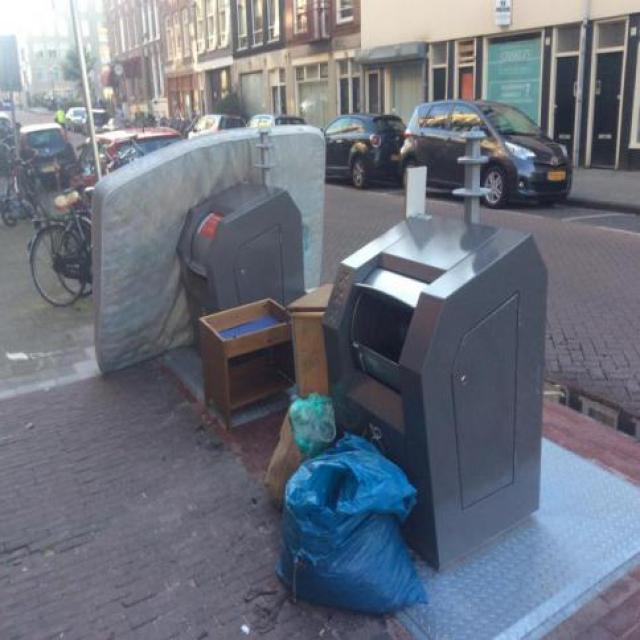Anorganik: (281, 422, 424, 606)
